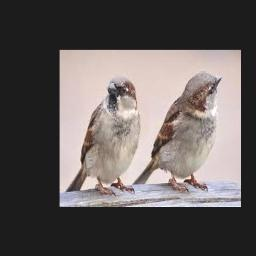Sparrow: (131, 72, 222, 192), (65, 75, 141, 195)
